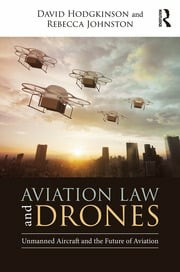maybay_khongnguoilai: (21, 79, 88, 122), (11, 44, 58, 74), (69, 64, 110, 92), (99, 106, 125, 127), (124, 93, 152, 112)
